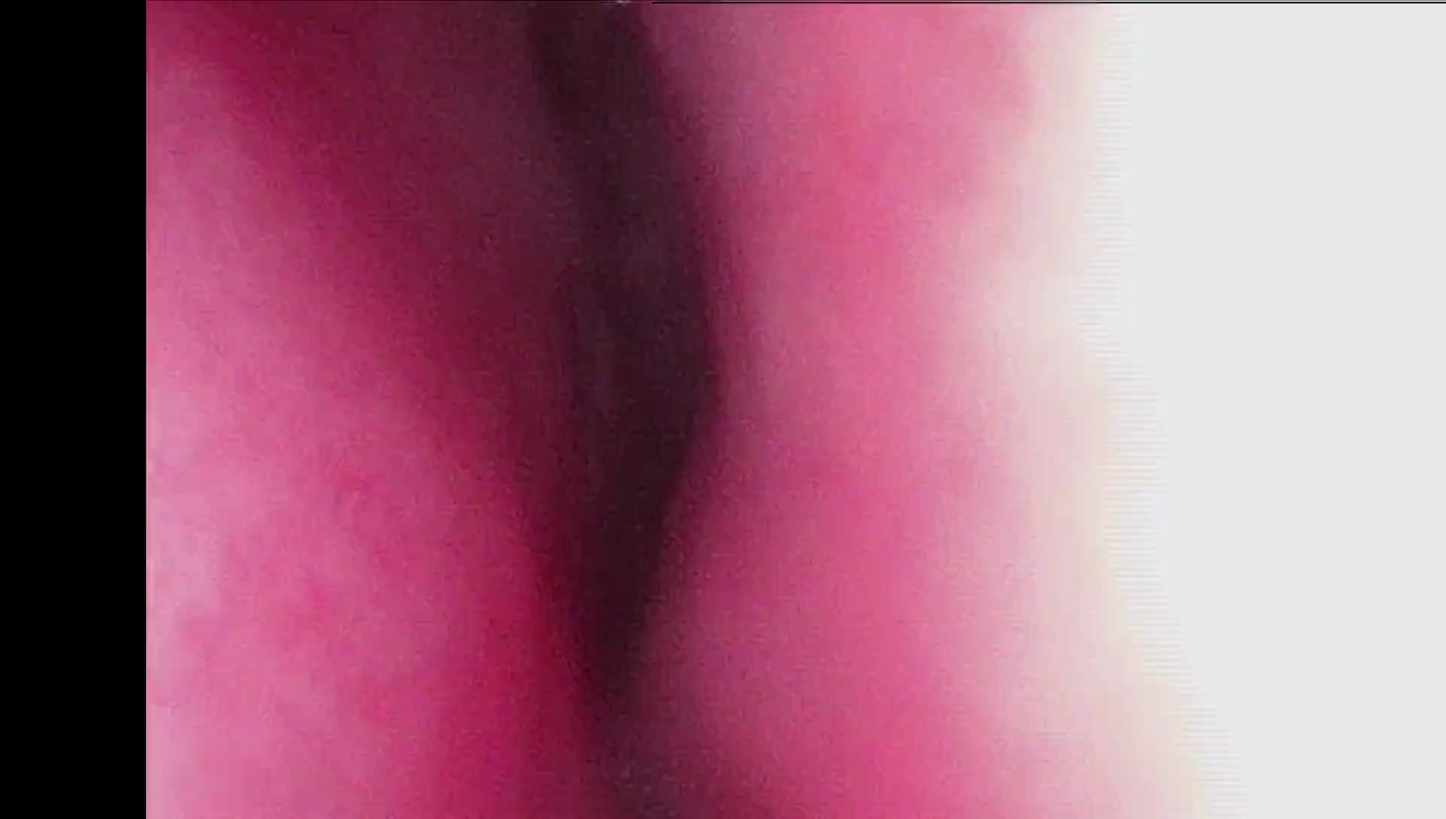close_wall: (886, 13, 1446, 819), (161, 226, 417, 819)
next: (492, 132, 775, 709)
